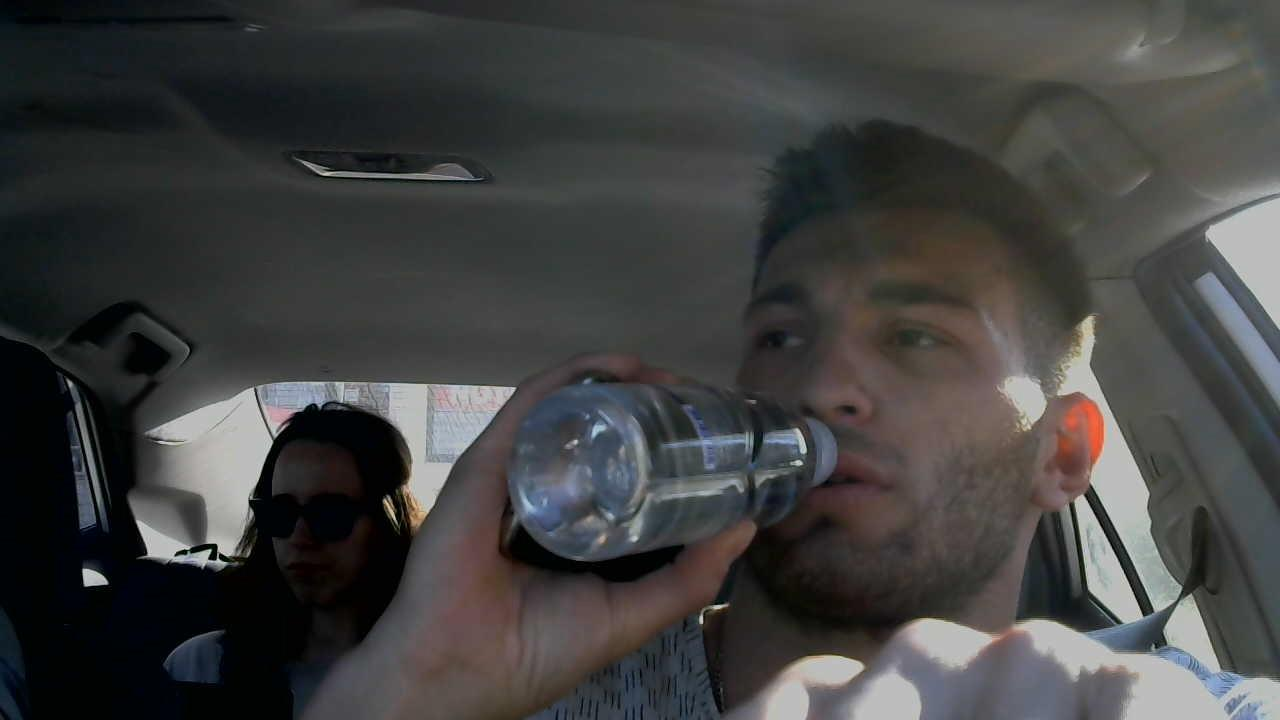Drinking: (505, 211, 1106, 608)
